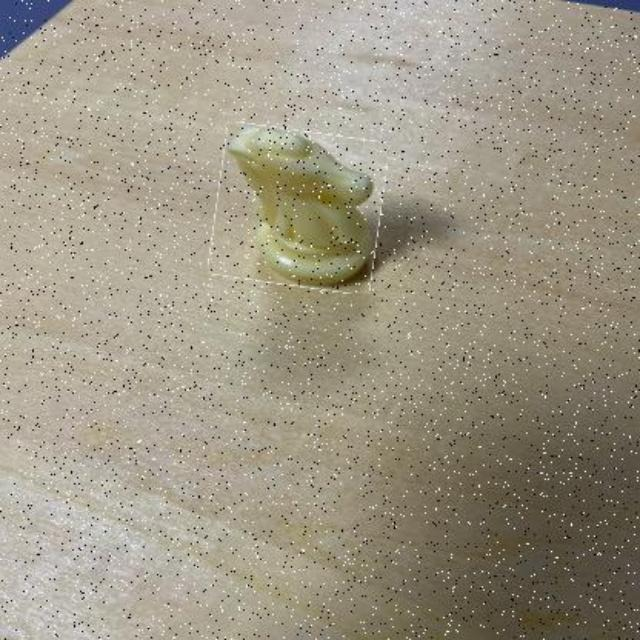white-knight: (212, 127, 384, 291)
